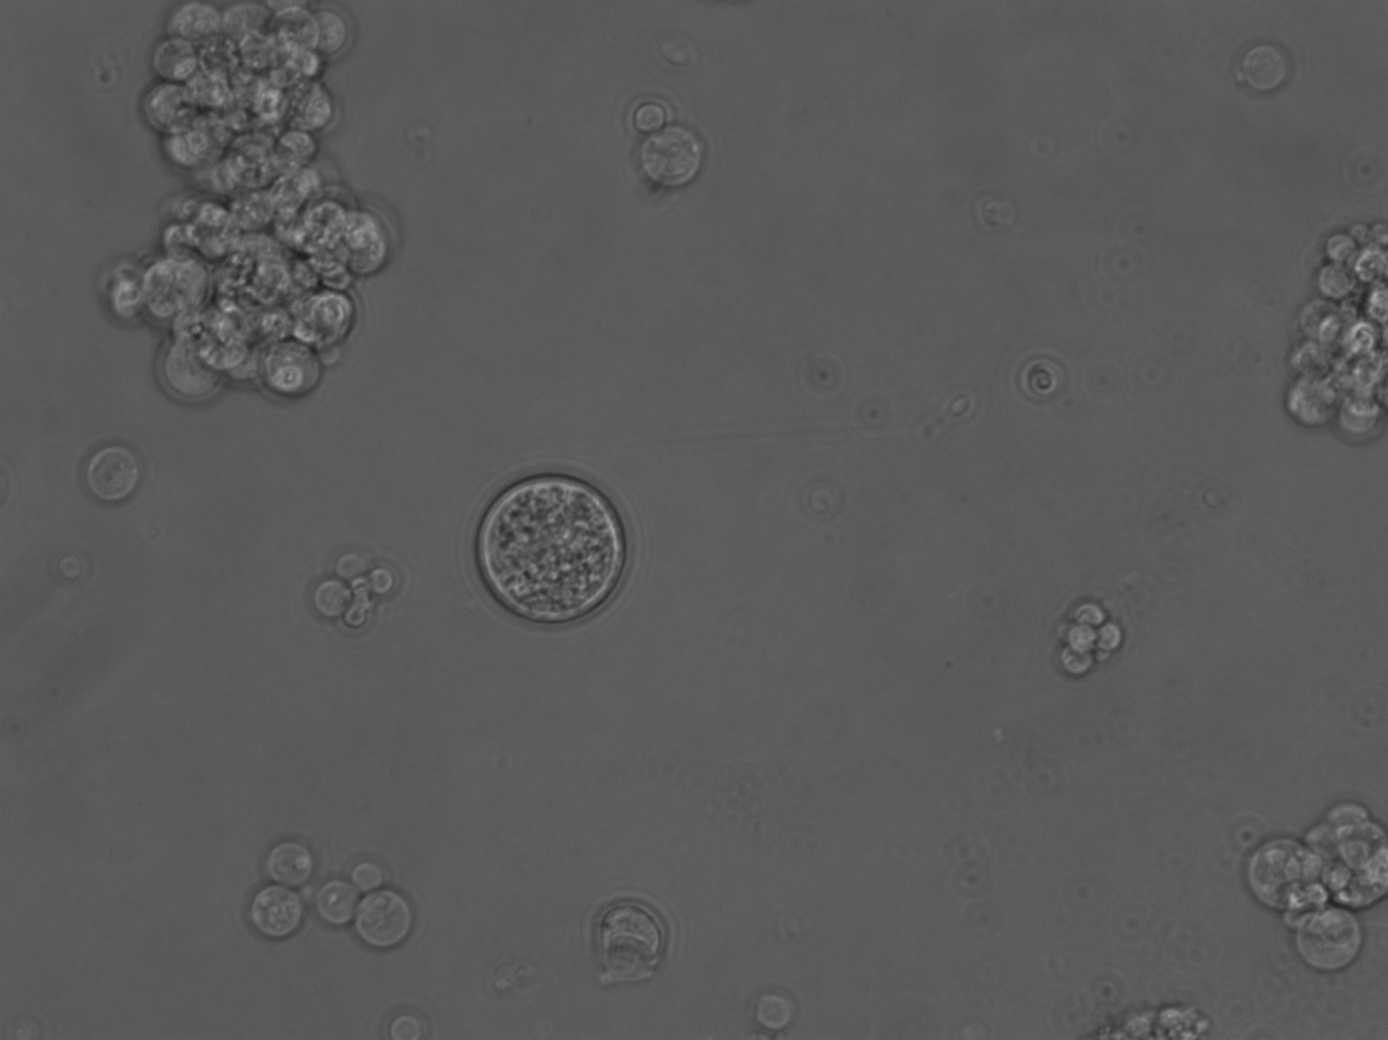ceil: (102, 1, 403, 407), (473, 470, 634, 627), (1248, 794, 1388, 974), (1284, 213, 1388, 442), (235, 837, 422, 952), (305, 545, 402, 638), (627, 97, 711, 191), (592, 893, 673, 981), (1053, 599, 1127, 678), (80, 445, 149, 508), (1235, 40, 1292, 96)
